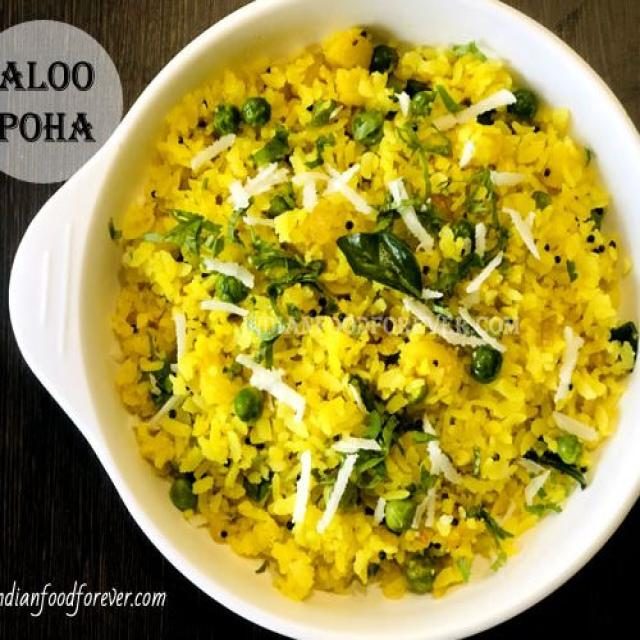POHA: (105, 24, 636, 594)
